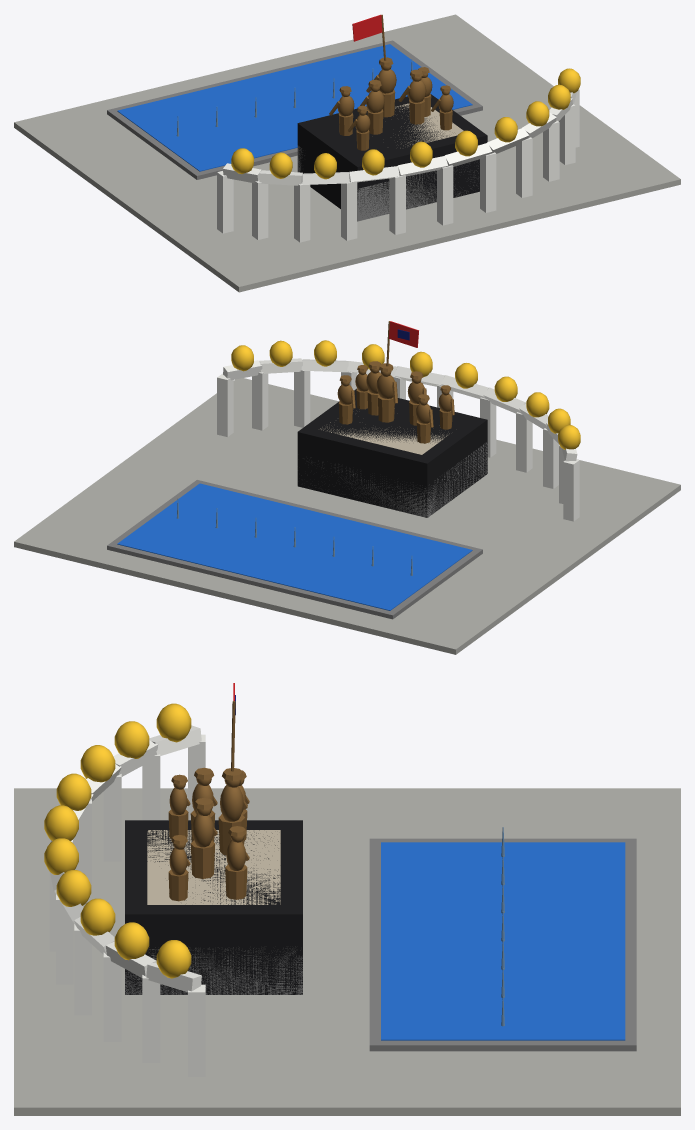
The model's file is env_lm2_tugu_negara.fbx.
3 views of the same model, one above another, from view 1: azimuth 30°, elevation 25°; view 2: azimuth 150°, elevation 25°; view 3: azimuth 270°, elevation 25° (orthographic). The views are drawn at different scales.
Visible parts, largest first — view 1: env_lm2_tugu_negara_geo_LOD0, COL_env_lm2_tugu_negara; view 2: env_lm2_tugu_negara_geo_LOD0, COL_env_lm2_tugu_negara; view 3: env_lm2_tugu_negara_geo_LOD0, COL_env_lm2_tugu_negara.
Boxes of the visible parts, bbox=[...] form: env_lm2_tugu_negara_geo_LOD0: bbox=[14, 14, 680, 292]; COL_env_lm2_tugu_negara: bbox=[297, 94, 487, 221]; env_lm2_tugu_negara_geo_LOD0: bbox=[14, 321, 680, 654]; COL_env_lm2_tugu_negara: bbox=[297, 388, 487, 517]; env_lm2_tugu_negara_geo_LOD0: bbox=[14, 683, 680, 1115]; COL_env_lm2_tugu_negara: bbox=[125, 820, 302, 994].
Size of what is drawn, in the model's own units: 34 by 12.54 by 30.
